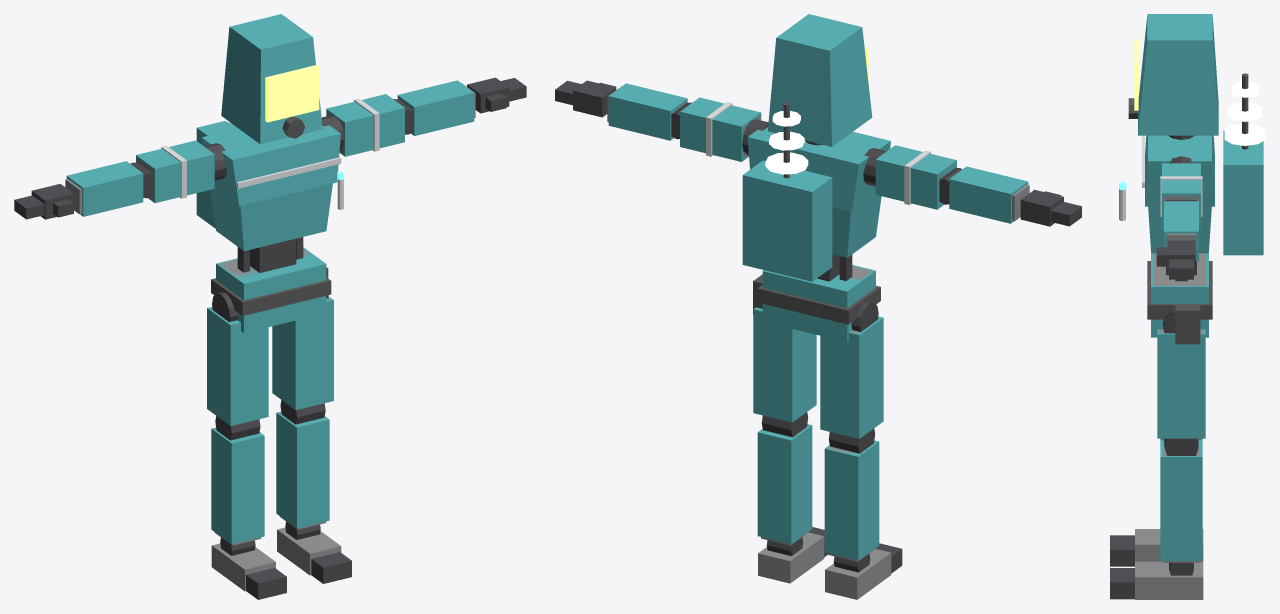
The model's file is char_F1_scientist.glb.
3 views of the same model, side by side, from view 1: azimuth 30°, elevation 25°; view 2: azimuth 150°, elevation 25°; view 3: azimuth 270°, elevation 25° (orthographic). The views are drawn at different scales.
Parts seen in each view (by area): view 1: Head_mesh, UpperChest_mesh, RightUpperLeg_mesh, RightLowerLeg_mesh, LeftLowerLeg_mesh, Hips_mesh, LeftUpperLeg_mesh, Chest_mesh, RightLowerArm_mesh, RightUpperArm_mesh, LeftUpperArm_mesh, LeftLowerArm_mesh (+7 smaller); view 2: UpperChest_mesh, Head_mesh, RightUpperLeg_mesh, LeftLowerLeg_mesh, RightLowerLeg_mesh, Hips_mesh, LeftUpperLeg_mesh, RightLowerArm_mesh, RightUpperArm_mesh, LeftUpperArm_mesh, LeftLowerArm_mesh, LeftFoot_mesh (+4 smaller); view 3: Head_mesh, UpperChest_mesh, LeftLowerLeg_mesh, LeftUpperLeg_mesh, Hips_mesh, LeftFoot_mesh, LeftUpperArm_mesh, LeftLowerArm_mesh, LeftHand_mesh, Chest_mesh, RightFoot_mesh, LeftToes_mesh (+2 smaller).
Part boxes in pixels (box(x1,y1,x2,y2)): Head_mesh: box(221, 14, 322, 144); UpperChest_mesh: box(196, 87, 341, 228); RightUpperLeg_mesh: box(207, 292, 268, 425); RightLowerLeg_mesh: box(211, 416, 264, 545); LeftLowerLeg_mesh: box(276, 400, 329, 529); Hips_mesh: box(211, 247, 331, 332); LeftUpperLeg_mesh: box(272, 295, 333, 409); Chest_mesh: box(210, 183, 332, 251); RightLowerArm_mesh: box(65, 161, 152, 216); RightUpperArm_mesh: box(136, 140, 214, 202); LeftUpperArm_mesh: box(326, 94, 404, 156); LeftLowerArm_mesh: box(393, 80, 475, 135); UpperChest_mesh: box(742, 102, 890, 281); Head_mesh: box(768, 14, 872, 146); RightUpperLeg_mesh: box(820, 301, 883, 438); LeftLowerLeg_mesh: box(757, 412, 812, 545); RightLowerLeg_mesh: box(824, 428, 879, 561); Hips_mesh: box(753, 265, 880, 341); LeftUpperLeg_mesh: box(753, 307, 816, 422); RightLowerArm_mesh: box(939, 166, 1029, 223); RightUpperArm_mesh: box(875, 145, 956, 209); LeftUpperArm_mesh: box(680, 97, 761, 161); LeftLowerArm_mesh: box(607, 83, 691, 140); LeftFoot_mesh: box(758, 532, 824, 583); Head_mesh: box(1128, 14, 1218, 135); UpperChest_mesh: box(1142, 73, 1265, 255); LeftLowerLeg_mesh: box(1160, 438, 1202, 562); LeftUpperLeg_mesh: box(1157, 310, 1205, 438); Hips_mesh: box(1147, 253, 1212, 344); LeftFoot_mesh: box(1135, 561, 1203, 599); LeftUpperArm_mesh: box(1160, 163, 1202, 228); LeftLowerArm_mesh: box(1164, 200, 1198, 261); LeftHand_mesh: box(1156, 240, 1195, 279); Chest_mesh: box(1148, 206, 1211, 253); RightFoot_mesh: box(1135, 529, 1203, 561); LeftToes_mesh: box(1110, 568, 1134, 599).
Size of the model in its own units: 1.92 by 1.95 by 0.5016.
